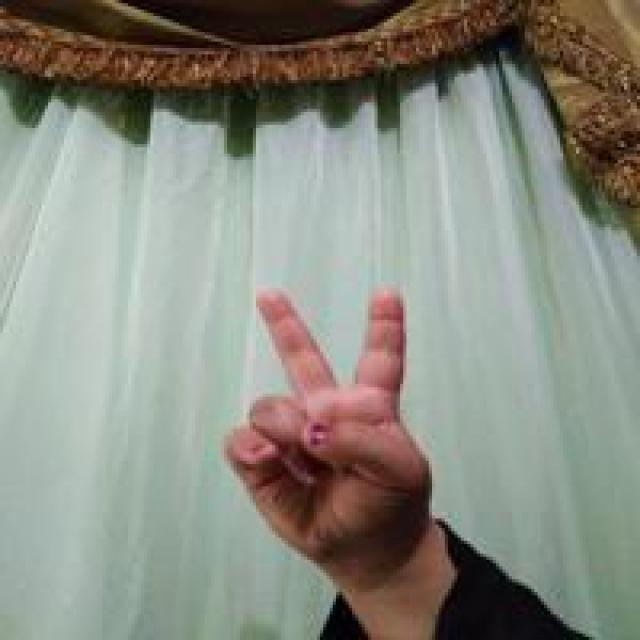V: (205, 277, 448, 565)
